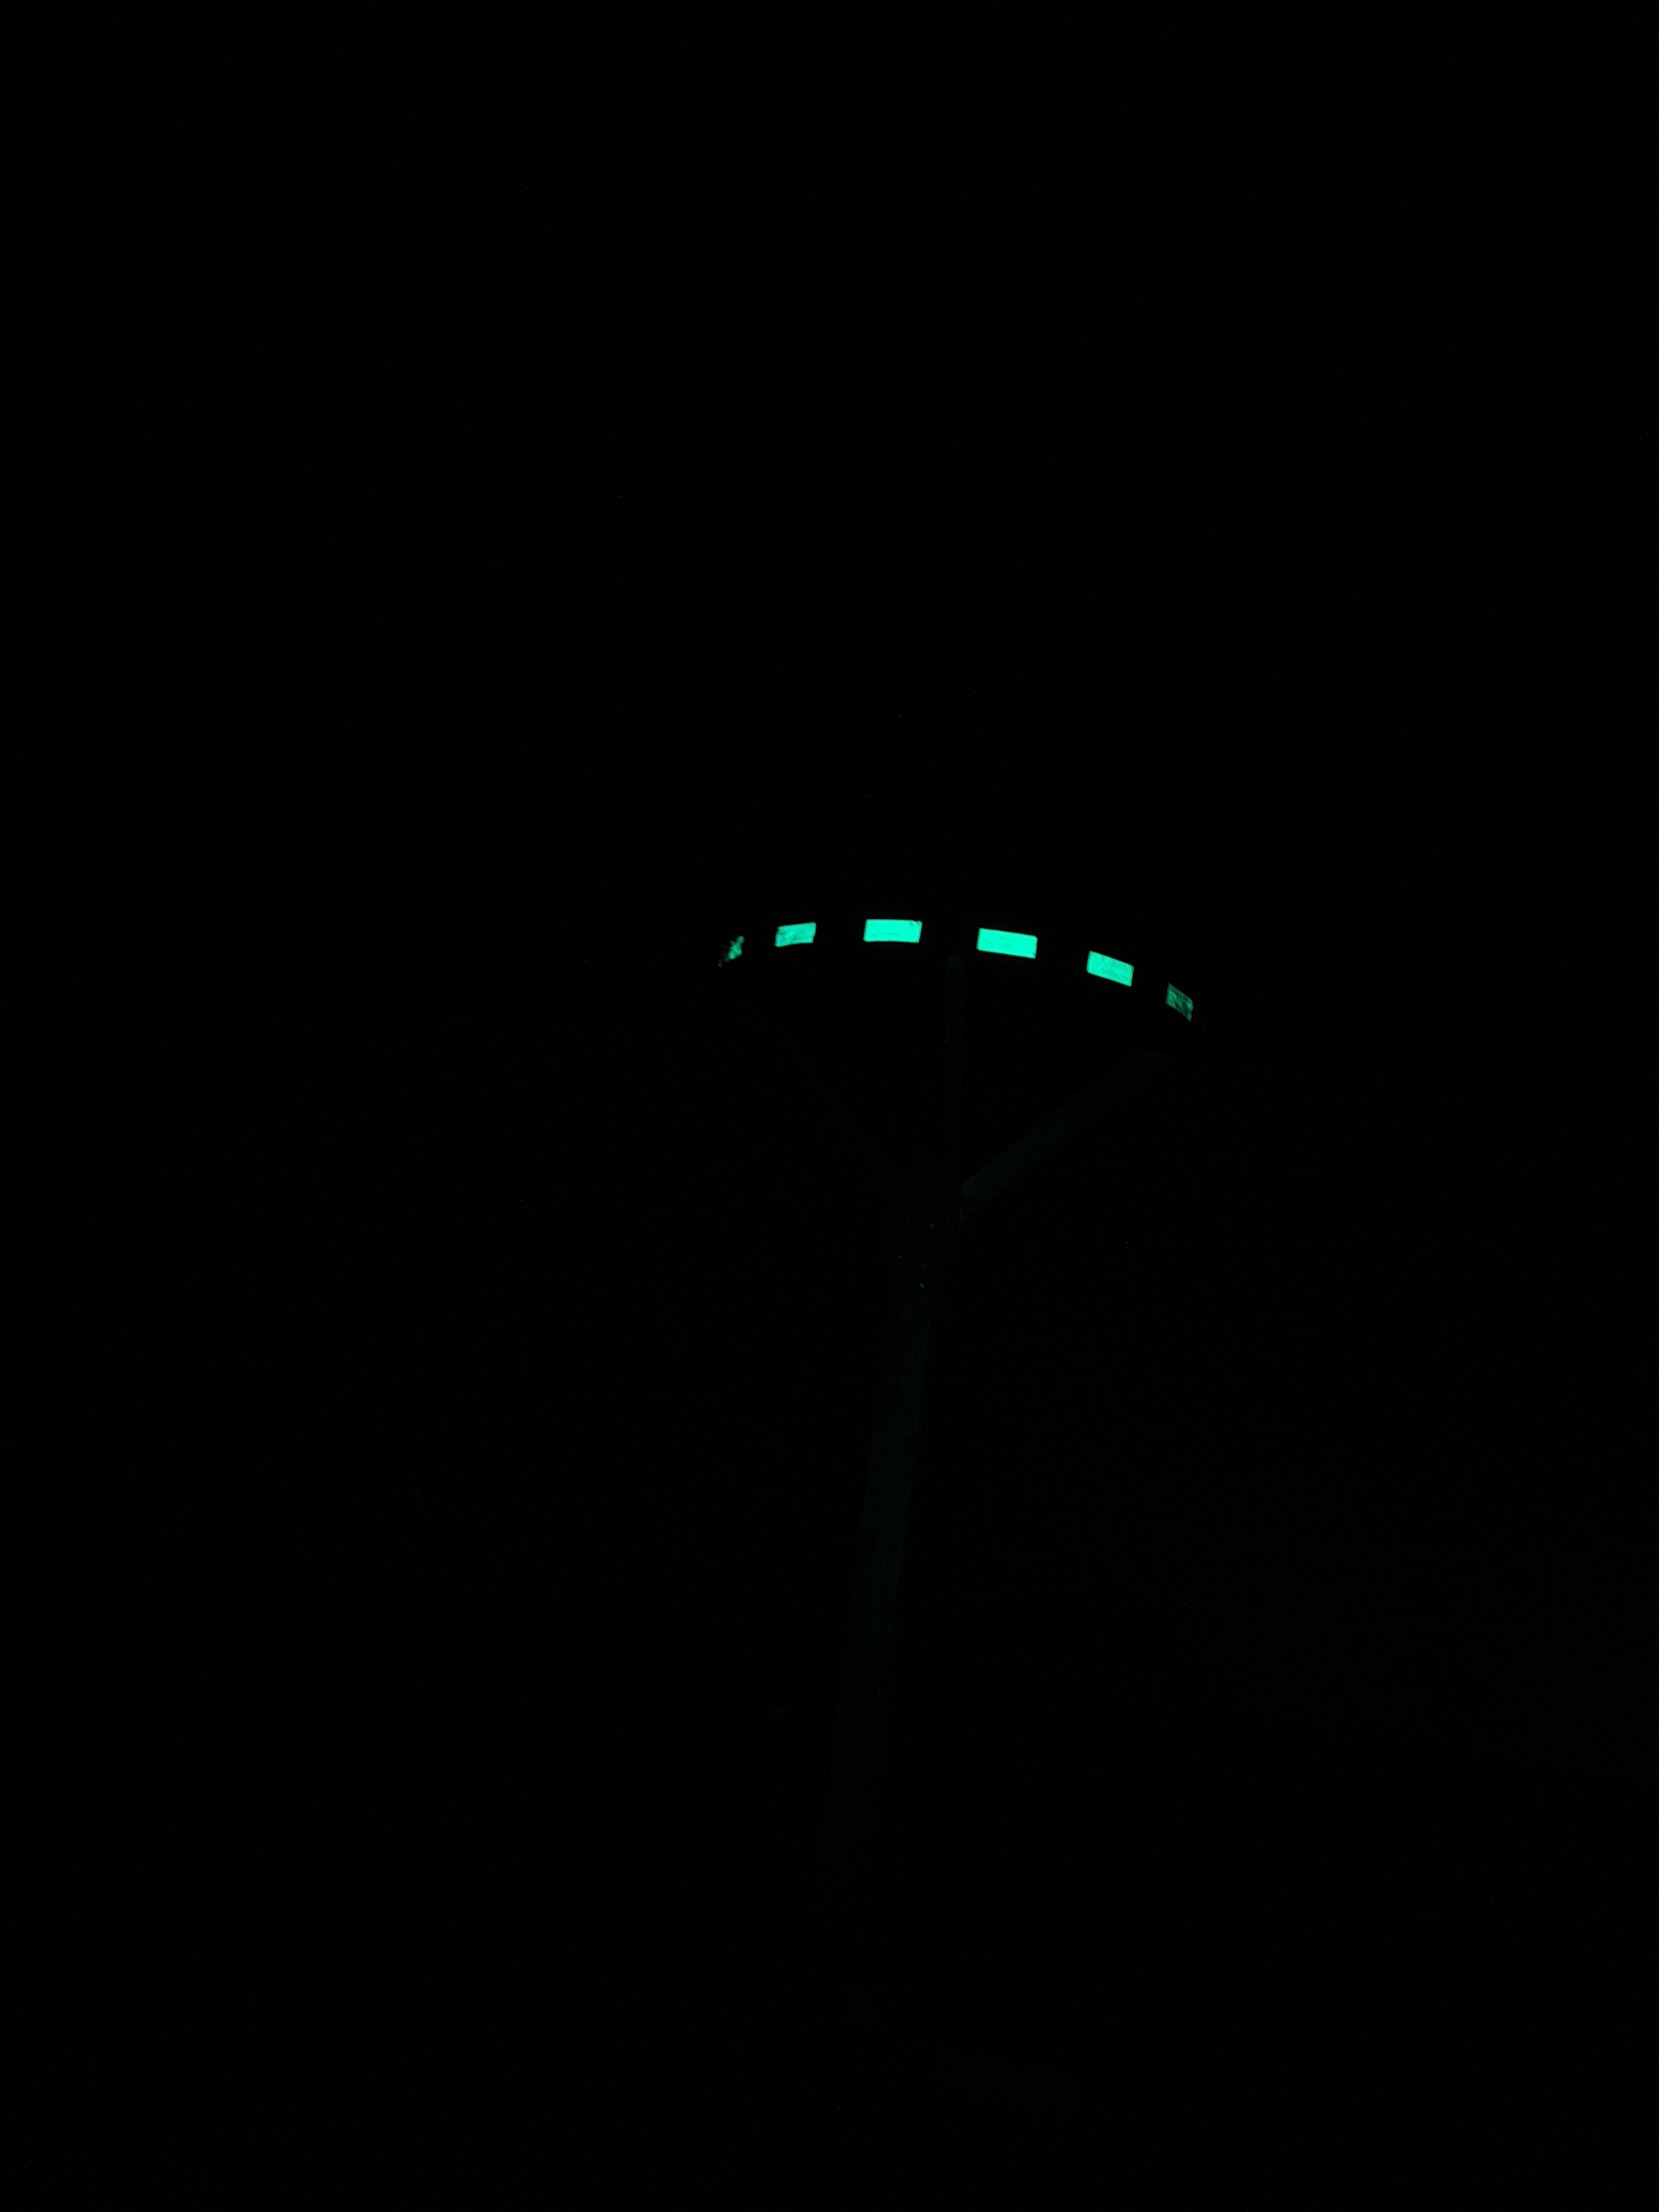hoop: (713, 900, 1202, 1042)
